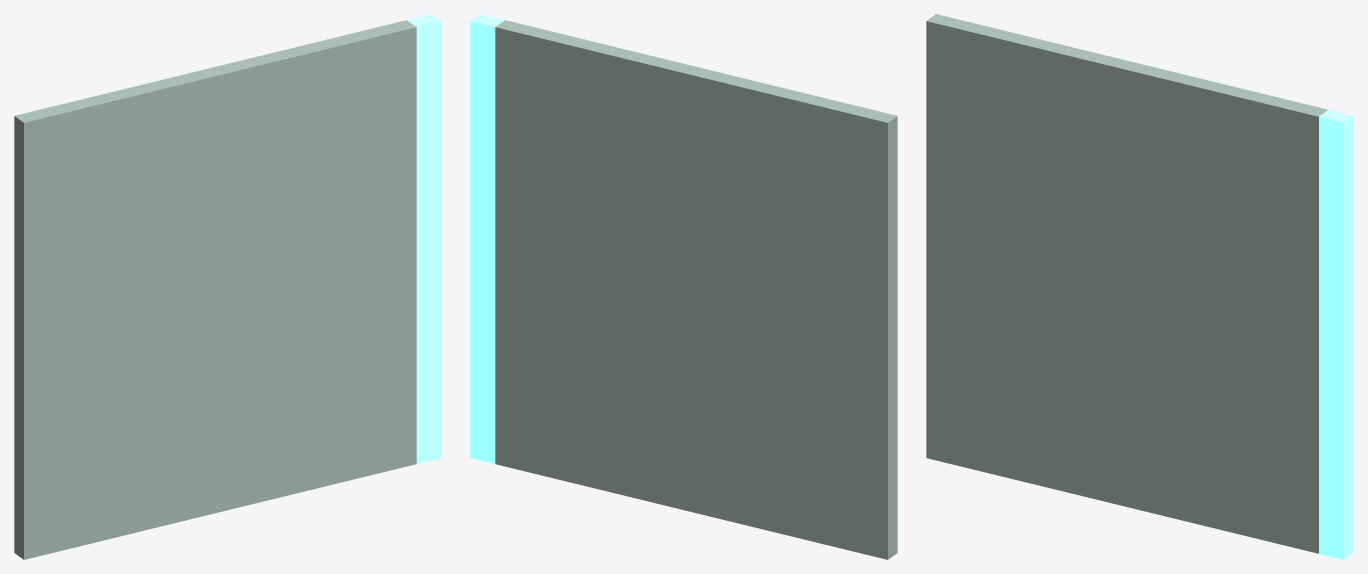
File: Goal_LeafL.gltf
The picture shows the model from 3 angles, left to right: view 1: azimuth 30°, elevation 25°; view 2: azimuth 150°, elevation 25°; view 3: azimuth 330°, elevation 25°; orthographic projection.
Visible parts, largest first — view 1: Goal_LeafL_baked; view 2: Goal_LeafL_baked; view 3: Goal_LeafL_baked.
Part boxes in pixels (x1=…): Goal_LeafL_baked: x1=14, y1=14, x2=441, y2=559; Goal_LeafL_baked: x1=470, y1=14, x2=897, y2=559; Goal_LeafL_baked: x1=926, y1=14, x2=1353, y2=559.
Bounding box in the file's own units: 1 × 1 × 0.04.
